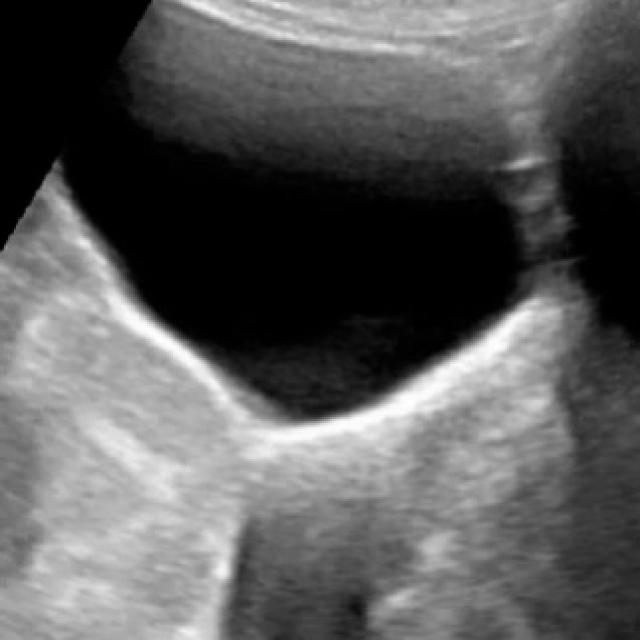bladder: (37, 0, 541, 452)
